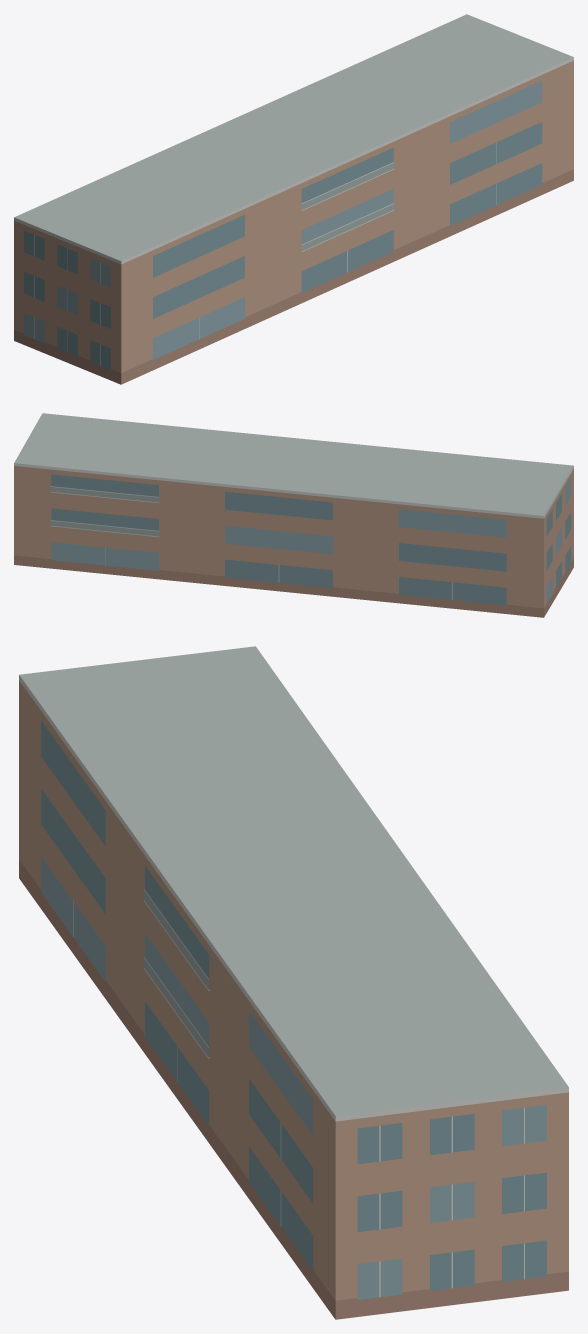
File: survey-upis-32518409.glb
3 renders of one model, top to bottom at view 1: azimuth 30°, elevation 25°; view 2: azimuth 150°, elevation 25°; view 3: azimuth 270°, elevation 25°, orthographic. The views are drawn at different scales.
Parts seen in each view (by area): view 1: survey-upis-32518409.tmp; view 2: survey-upis-32518409.tmp; view 3: survey-upis-32518409.tmp.
Boxes of the visible parts, x1,y1,x2,y2 form: survey-upis-32518409.tmp: (14,14,573,384); survey-upis-32518409.tmp: (14,413,573,617); survey-upis-32518409.tmp: (19,646,568,1319).
Size of the model in its own units: 45.31 by 9.15 by 22.4.
